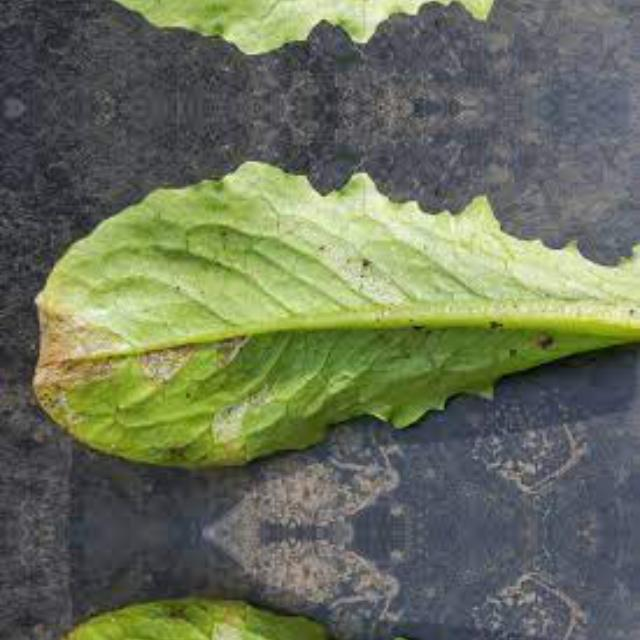Lettuce - Anthracnose: (28, 160, 640, 470), (28, 0, 639, 53), (28, 595, 639, 640)
